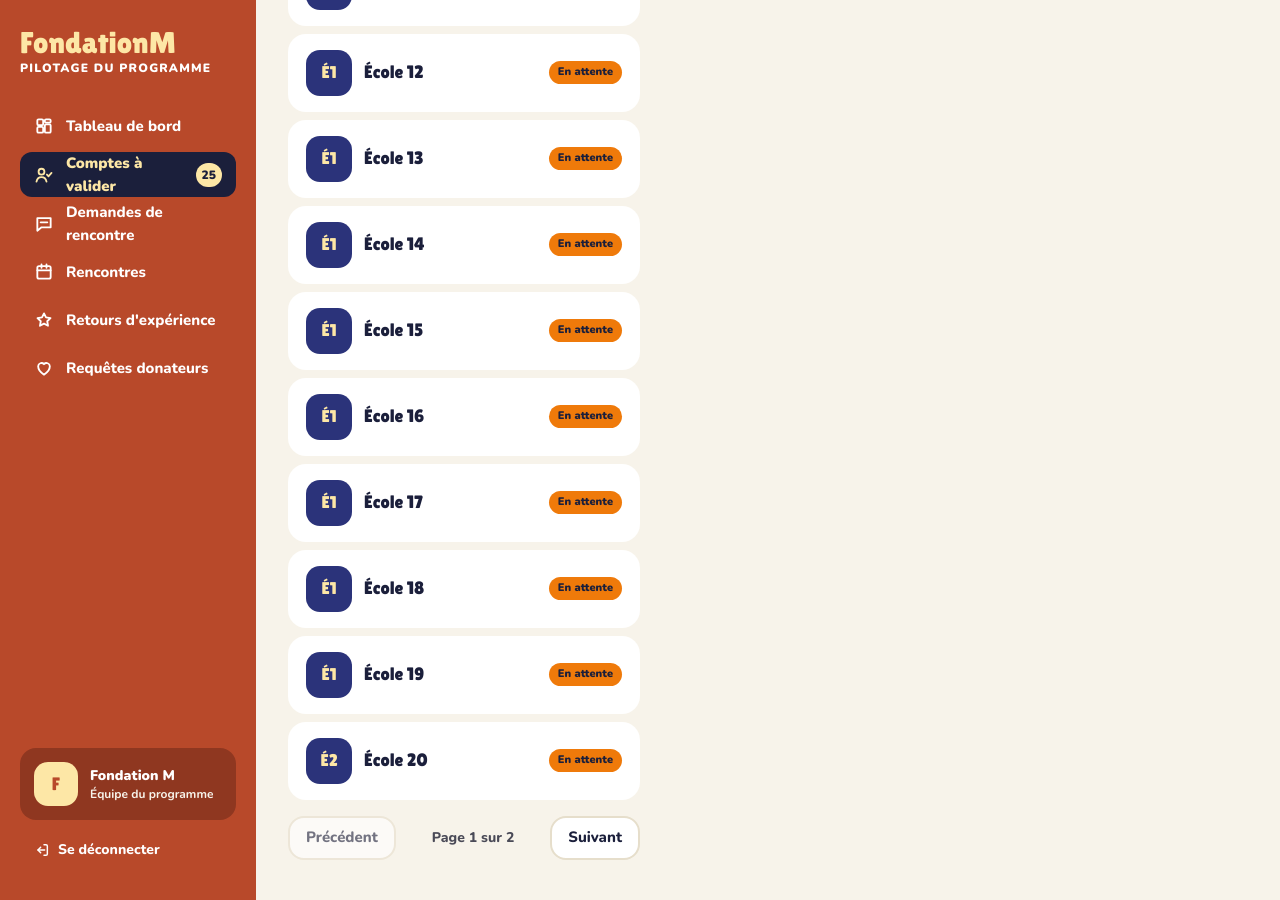
Test: Comptes à valider — listes et détail › pagine avec « Précédent / Suivant »
(page scrolled)
Expected: the text "Page 1 sur 2" is shown, [432, 828, 514, 848]
Expected: the button "Précédent" is disabled, [288, 816, 396, 860]
Step 1. Click the button "Suivant" → (595, 838), box [550, 816, 640, 860]
(page scrolled)
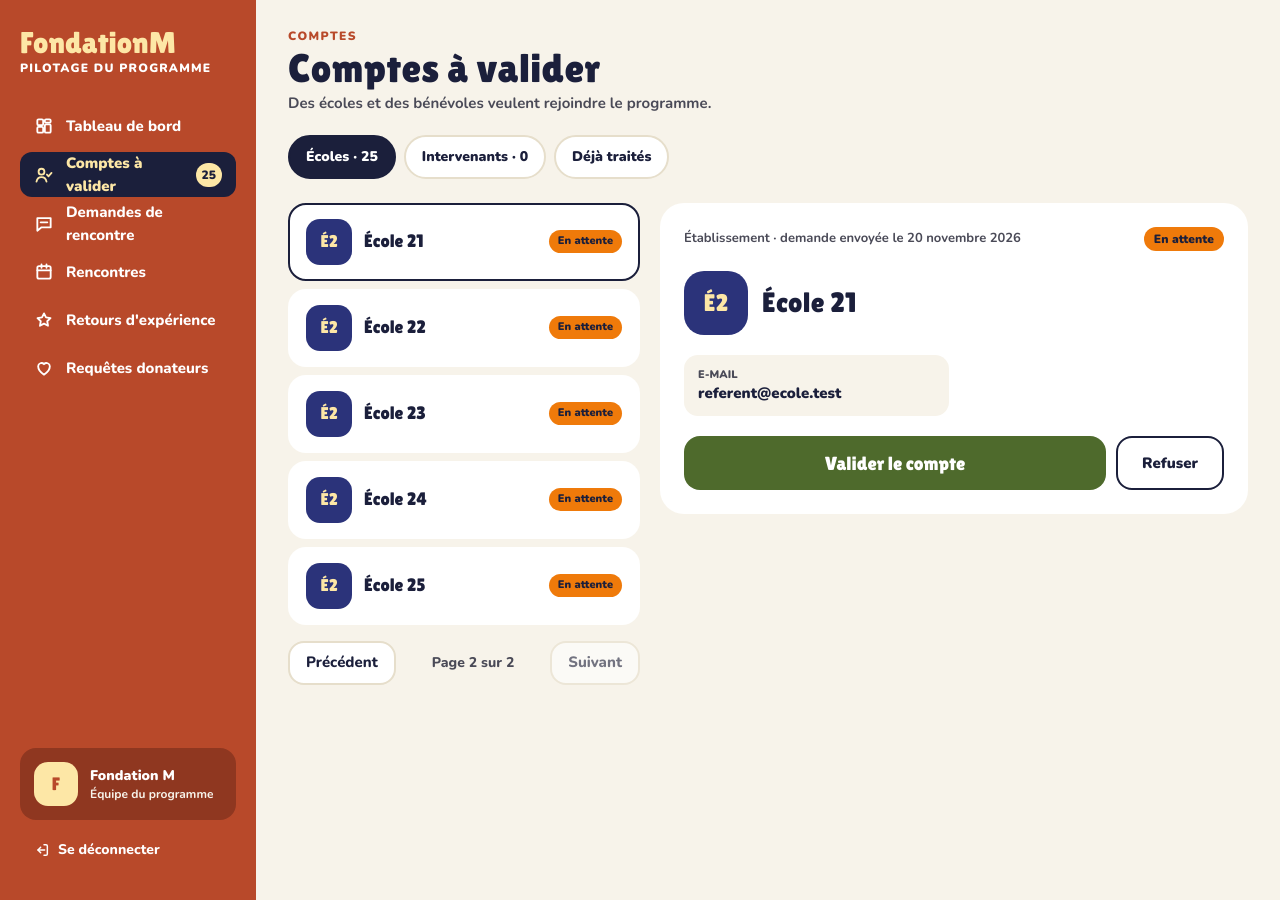
Expected: the text "Page 2 sur 2" is shown, [432, 652, 514, 672]
Expected: the button "Suivant" is disabled, [550, 640, 640, 684]
